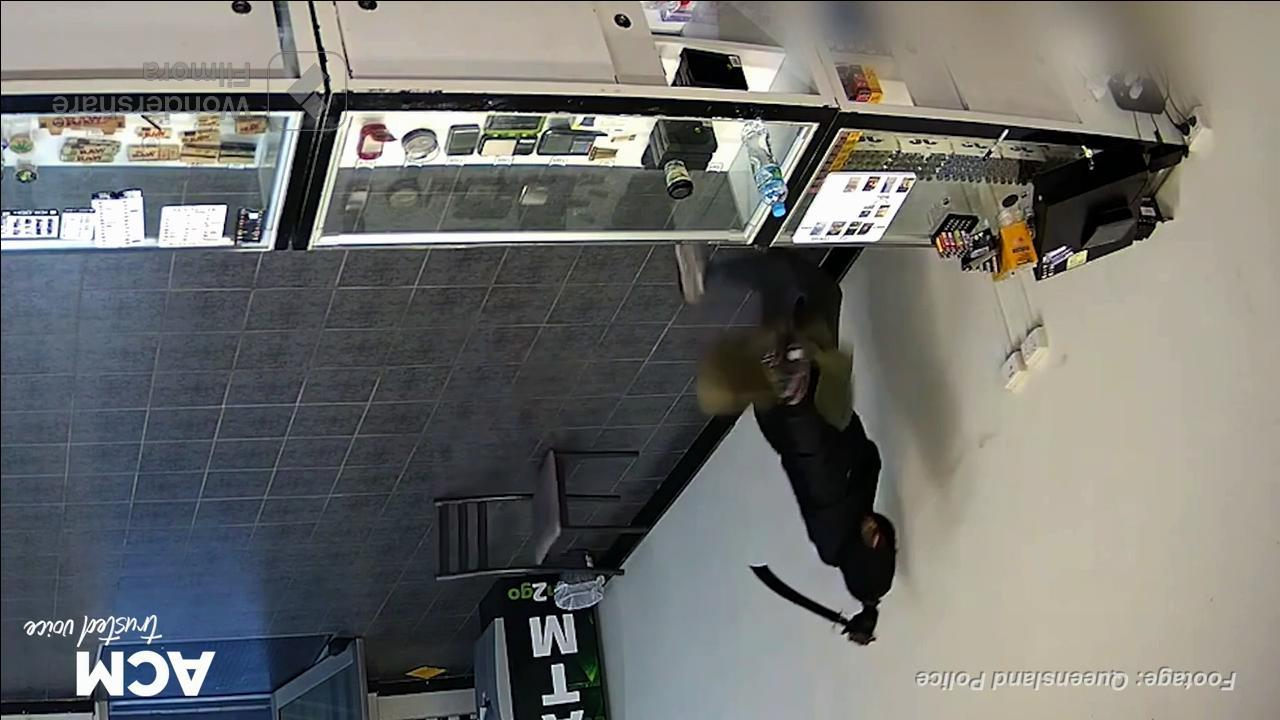melee: (744, 550, 863, 634)
